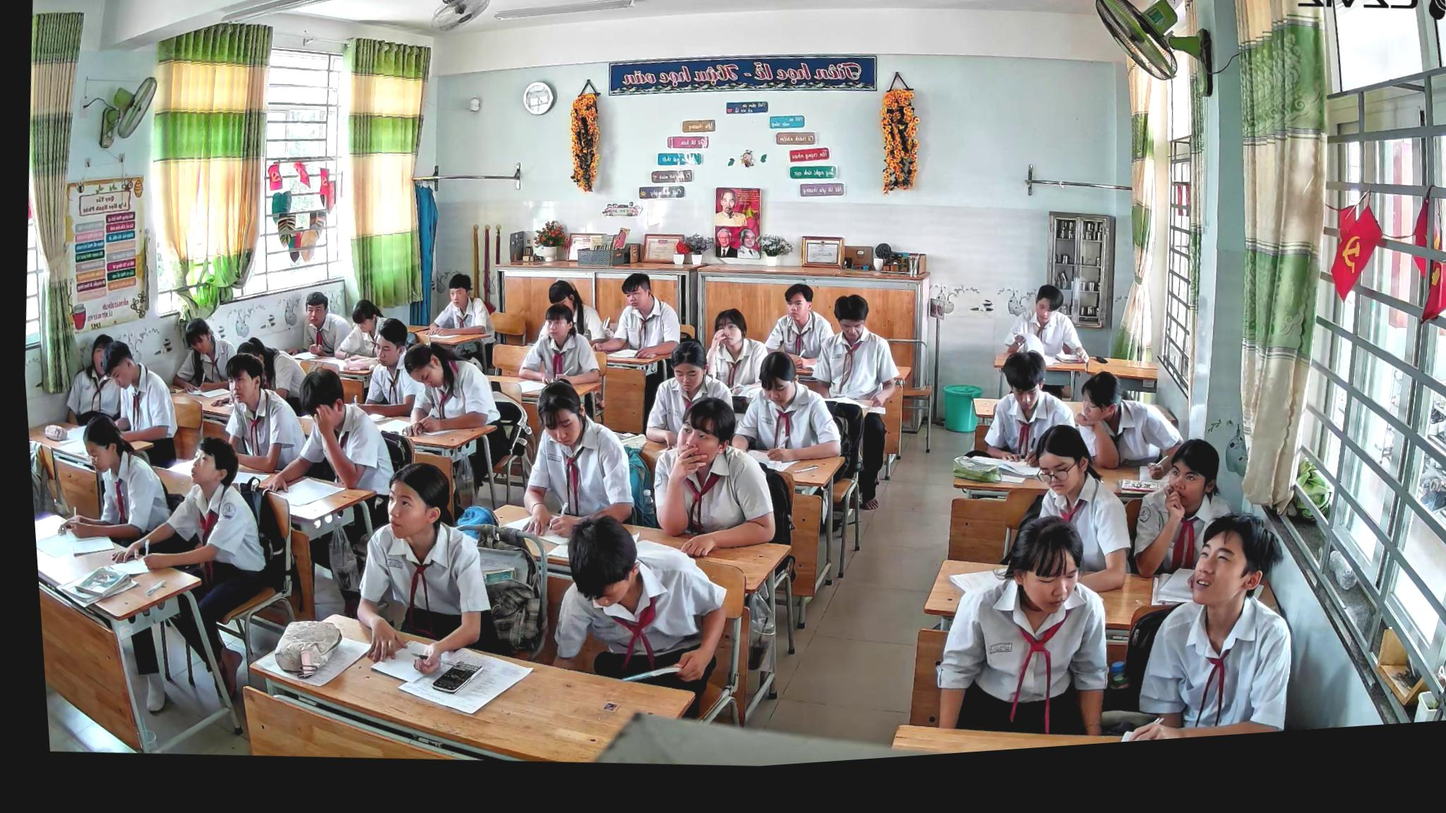person: (88, 424, 290, 727), (919, 500, 1127, 749), (1109, 499, 1312, 742), (538, 500, 752, 708), (342, 454, 508, 683), (792, 286, 918, 517), (998, 416, 1145, 601), (498, 370, 650, 548), (639, 389, 787, 571), (257, 357, 405, 511), (1122, 430, 1250, 589), (54, 408, 185, 557), (722, 343, 854, 471), (1065, 363, 1194, 488), (582, 267, 690, 415), (203, 347, 317, 480), (975, 344, 1087, 473), (88, 335, 188, 473), (636, 331, 744, 453), (392, 335, 509, 446), (511, 296, 607, 392), (999, 278, 1097, 370), (757, 278, 843, 376), (694, 303, 782, 398), (59, 329, 136, 432), (166, 312, 246, 400), (360, 315, 426, 420), (232, 333, 307, 407), (424, 268, 497, 344), (540, 275, 610, 347), (329, 295, 393, 373), (294, 288, 359, 364)
